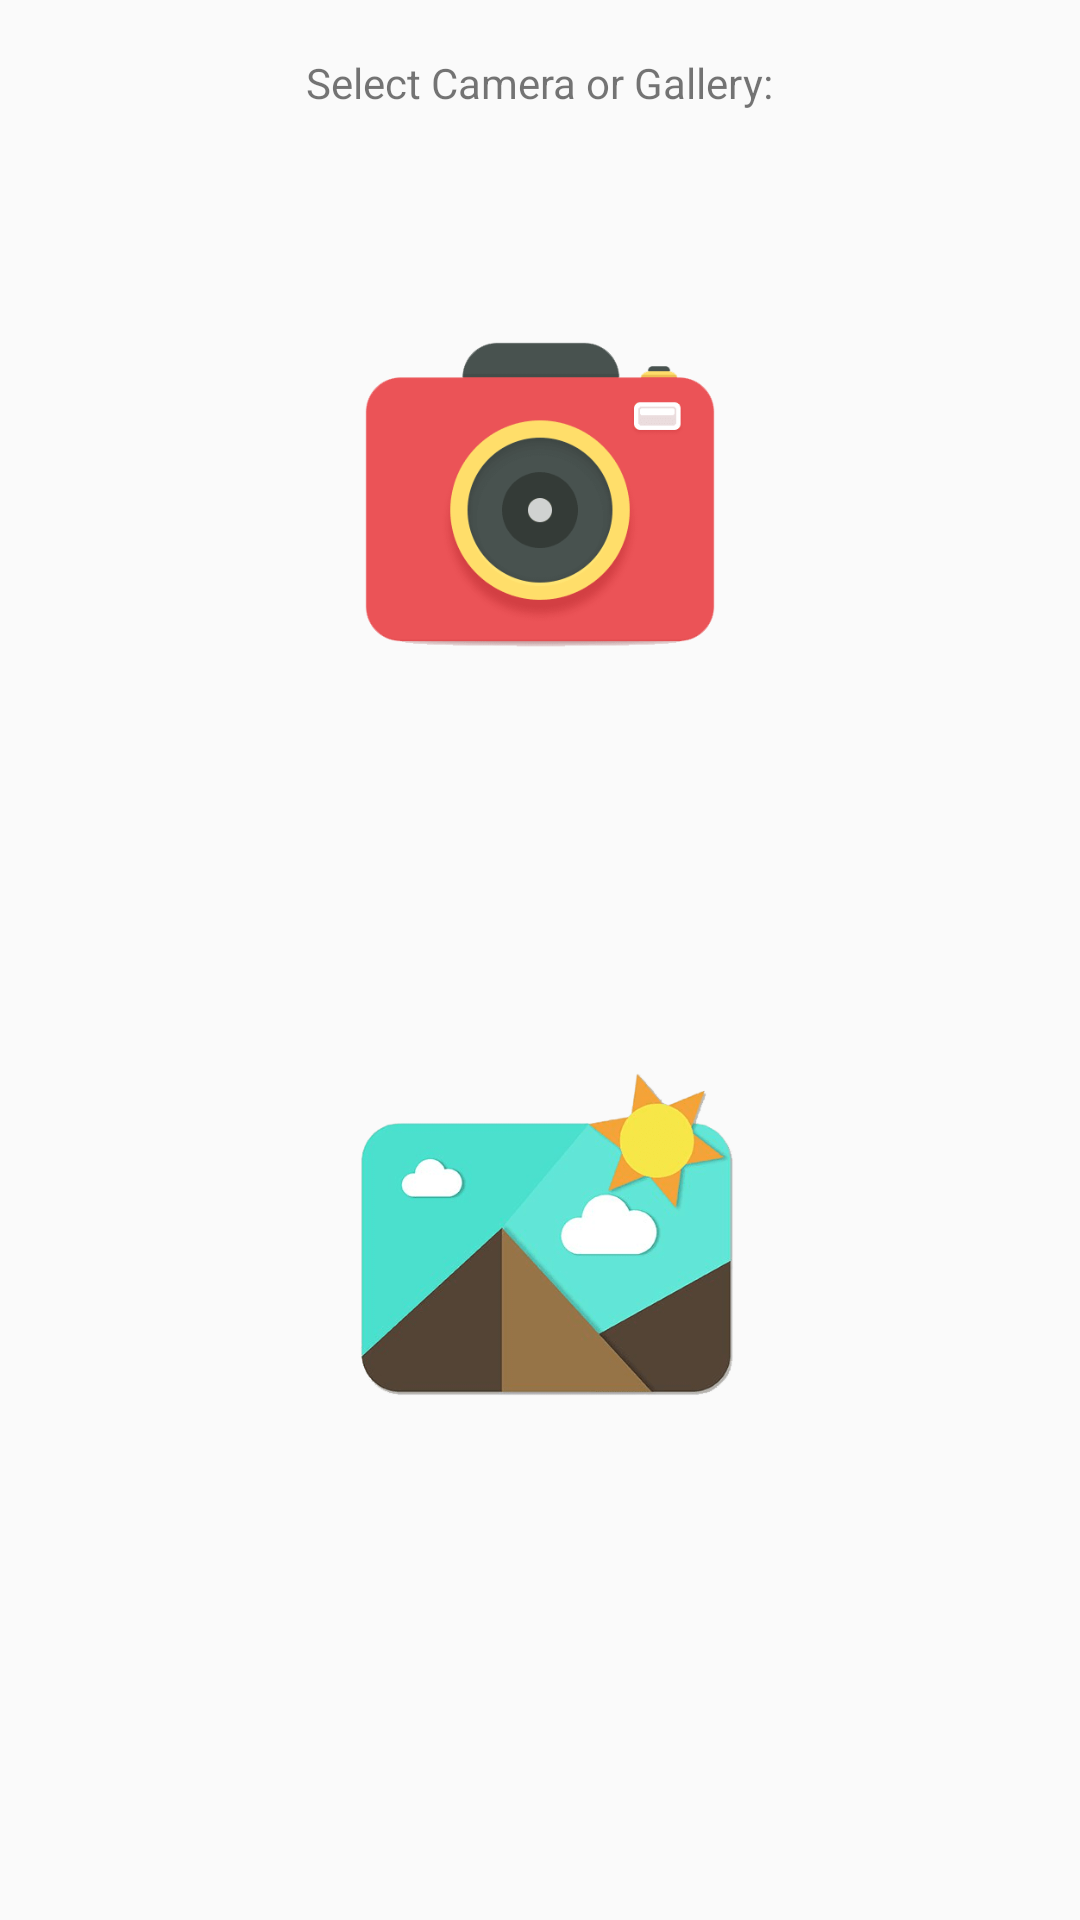

Locate icon controls on the screen. Image size 1080w x 1920h, boxes as (x1, y1, x2, y2).
cam: (366, 343, 714, 646)
